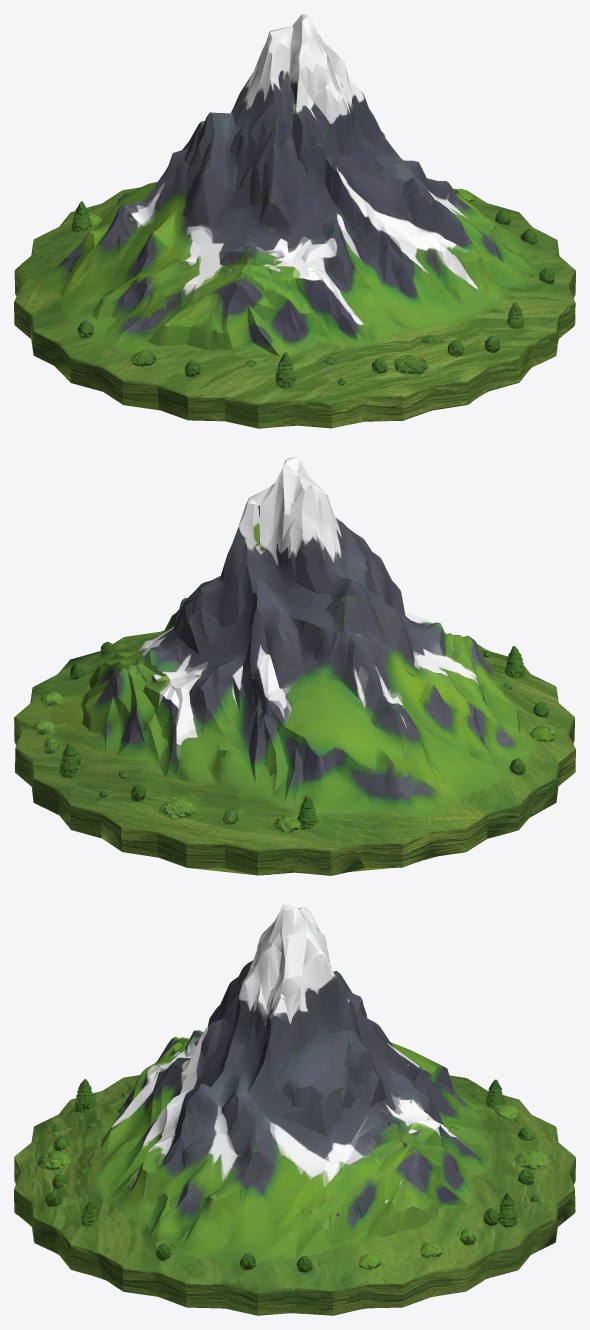
File: landmark-matterhorn.glb
The picture shows the model from 3 angles, top to bottom: view 1: azimuth 30°, elevation 25°; view 2: azimuth 150°, elevation 25°; view 3: azimuth 270°, elevation 25°; orthographic projection.
Bounding box in the file's own units: 1.9 × 1.1 × 1.9.
1 material, 1 textured.
